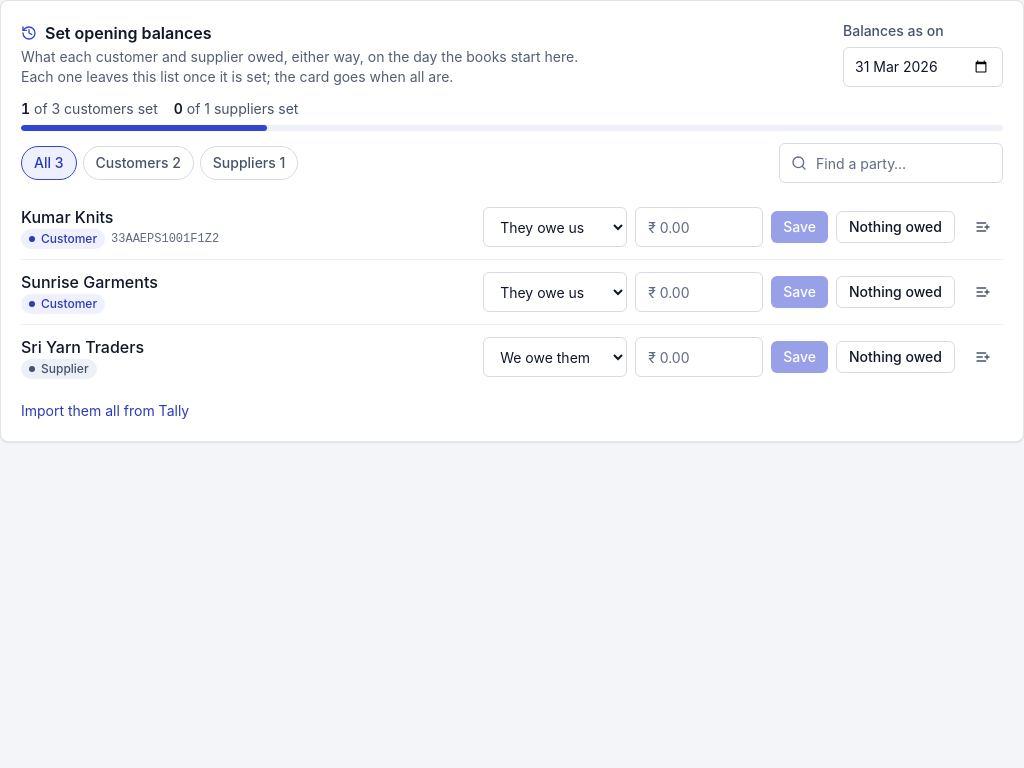
Test: opening balances on the dashboard › a bill already in the books is said as such, and is not counted as posted
Step 1. Click the button named "Kumar Knits: bill by bill" → x=983, y=227, box [963,211,1003,243]
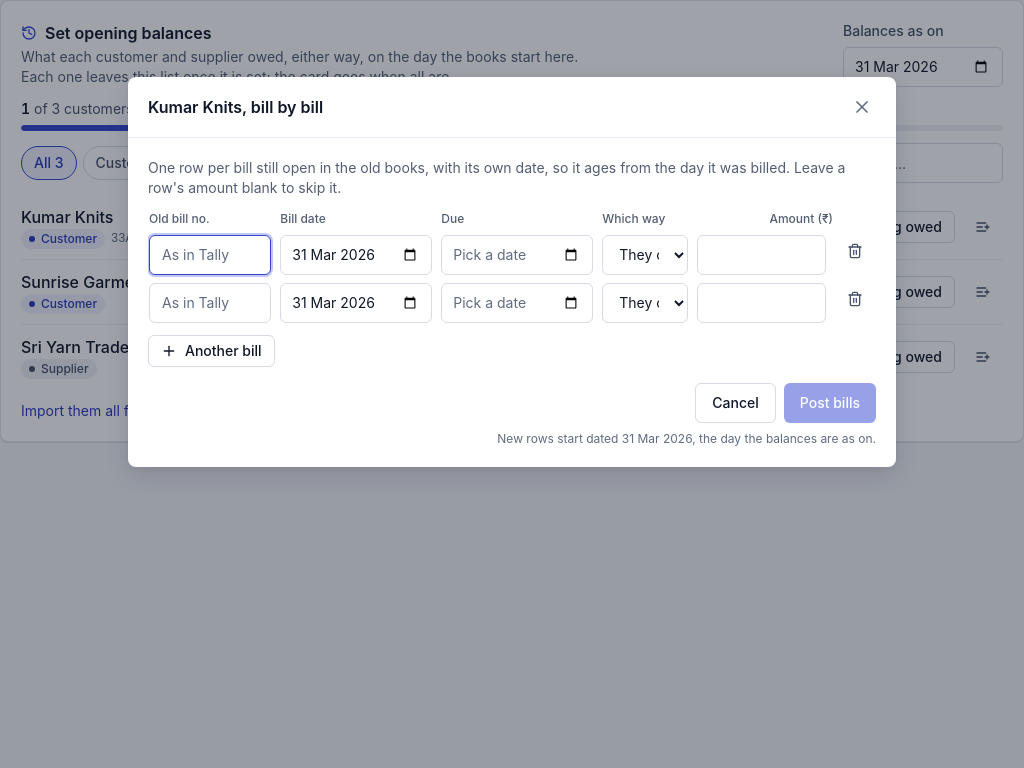
Step 2. Type "30000" into the number field named "Bill 1 amount" → x=761, y=255, box [697,235,826,275]
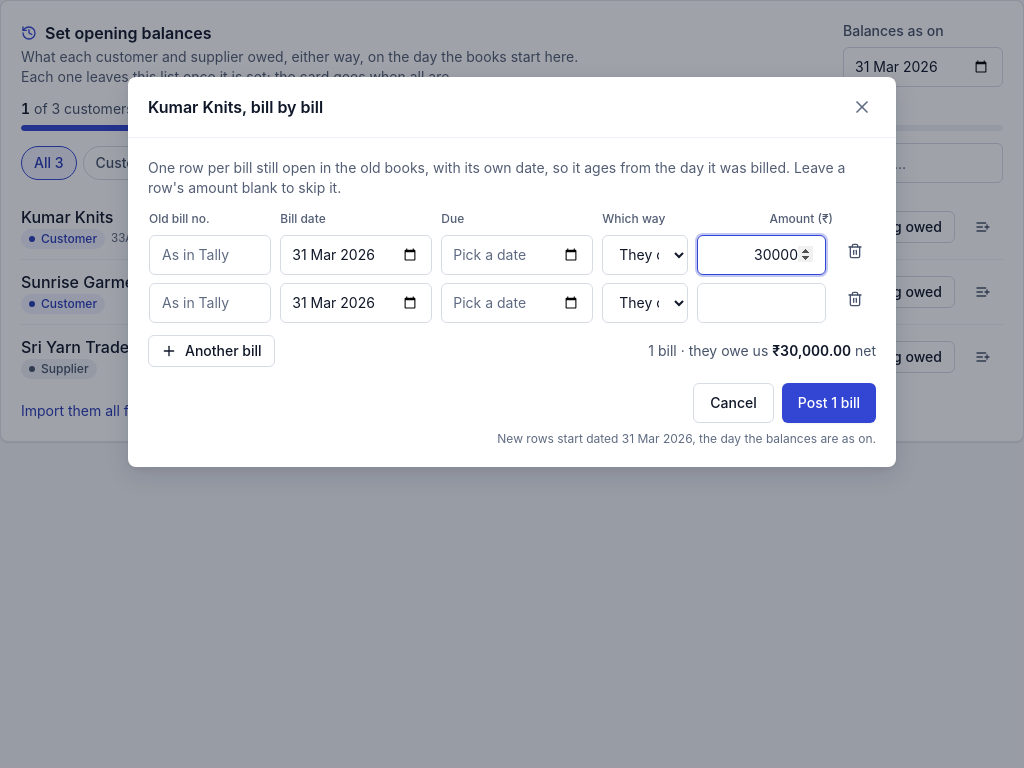
Step 3. Type "18500" into the number field named "Bill 2 amount" → x=761, y=303, box [697,283,826,323]
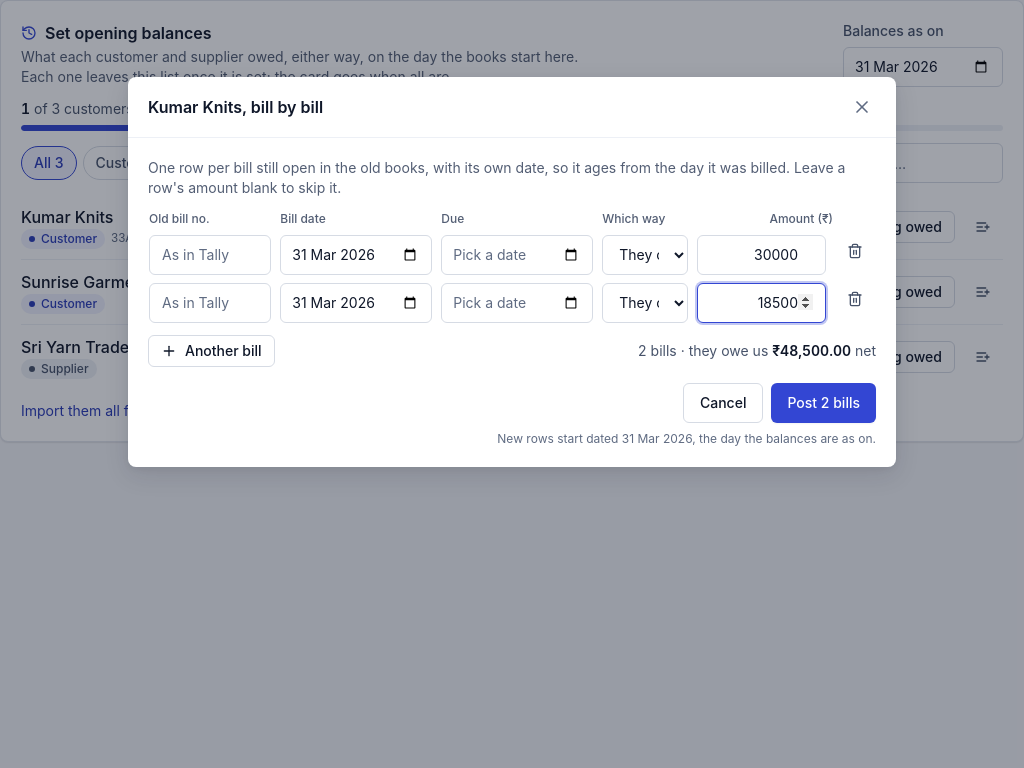
Step 4. Click the button "Post 2 bills" → x=824, y=403, box [772,383,876,423]
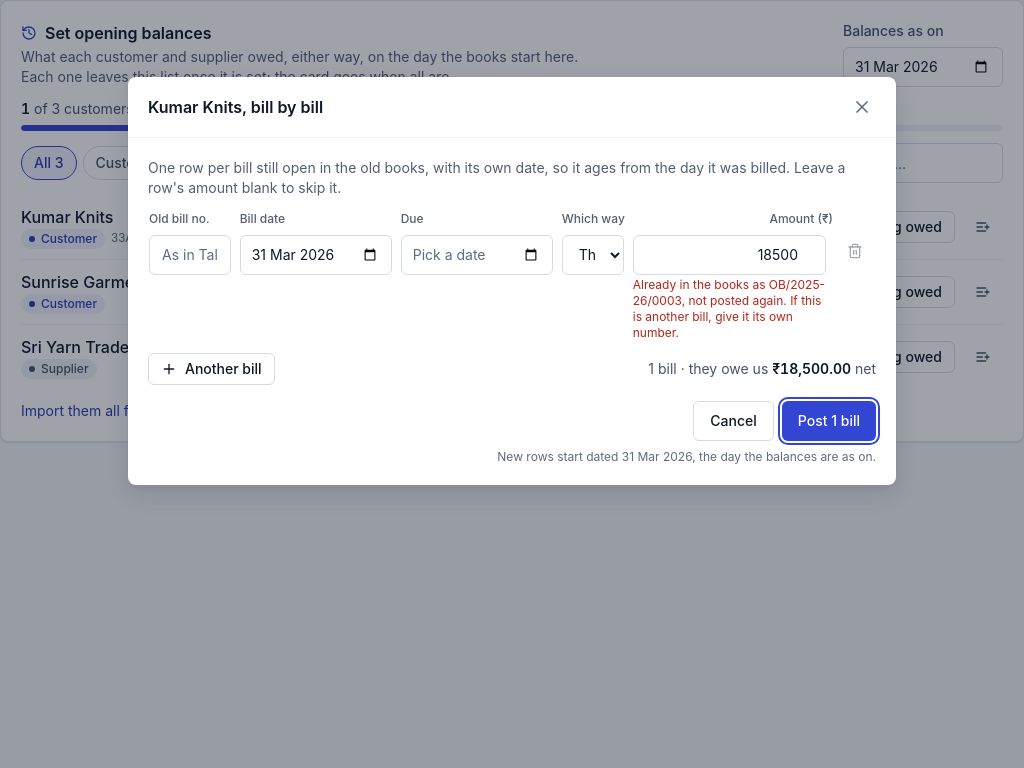
Check: the dialog shows "Already in the books as OB/2025-26/0003, not posted again. If this is another bill, give it its own number.", box [633,277,825,340]
